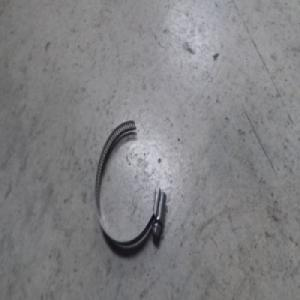AdjustableClamp: (94, 120, 168, 246)
